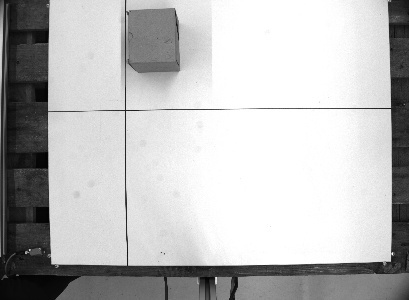b5: (122, 6, 183, 73)
